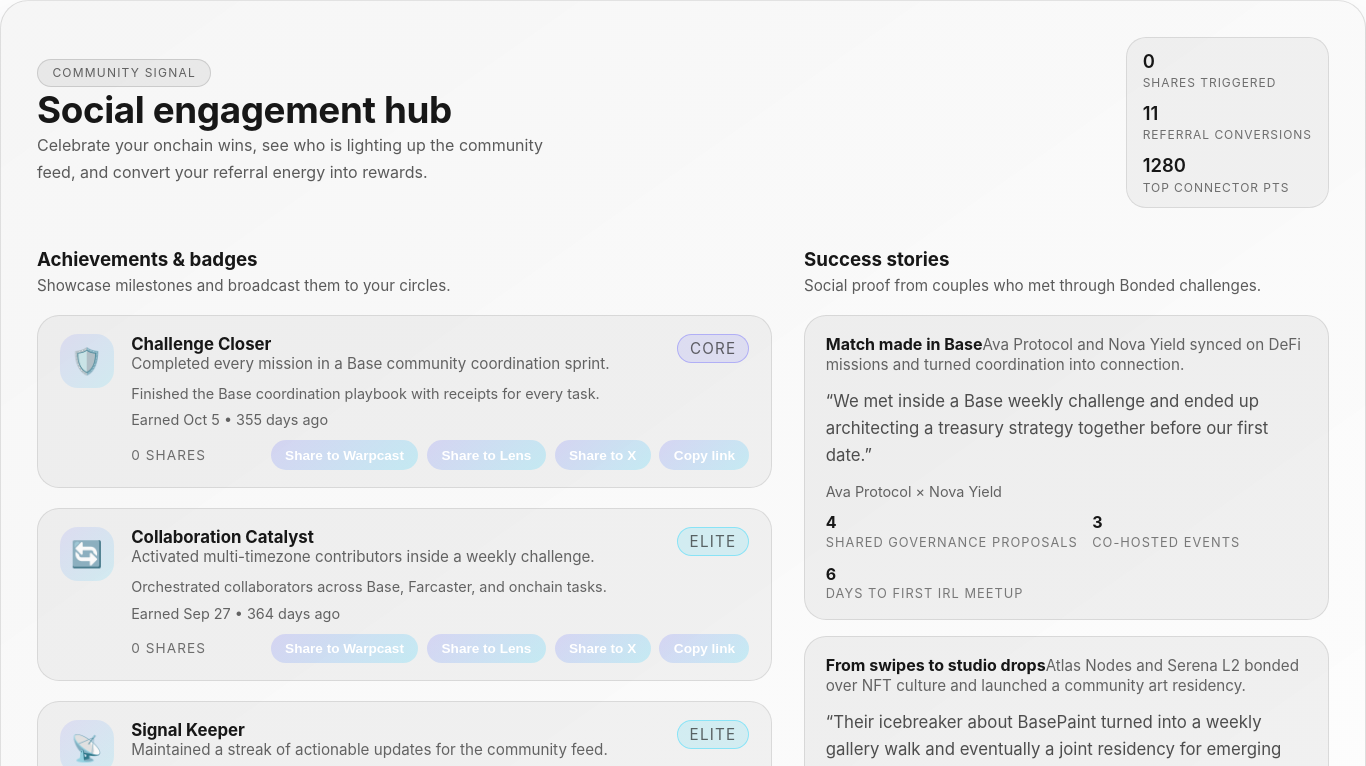
Scenario: SocialEngagementPanel › tracks share interactions and surfaces toast feedback
Click the button "Copy link" below "Core".
click(704, 455)  # box [659,440,749,470]
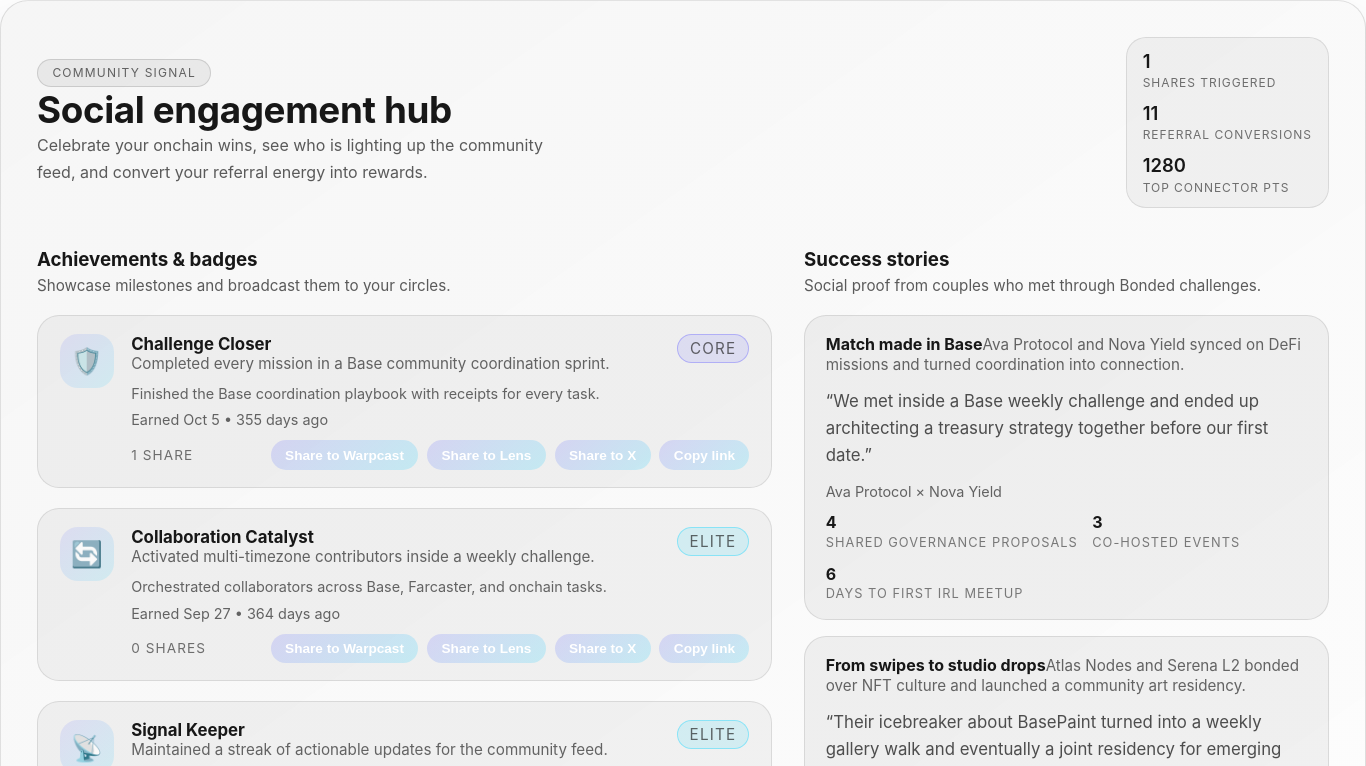
expect the list item named "copy link" is shown: met, box [37,315,772,488]
expect the text "1 share" is shown: met, box [131,447,193,463]
